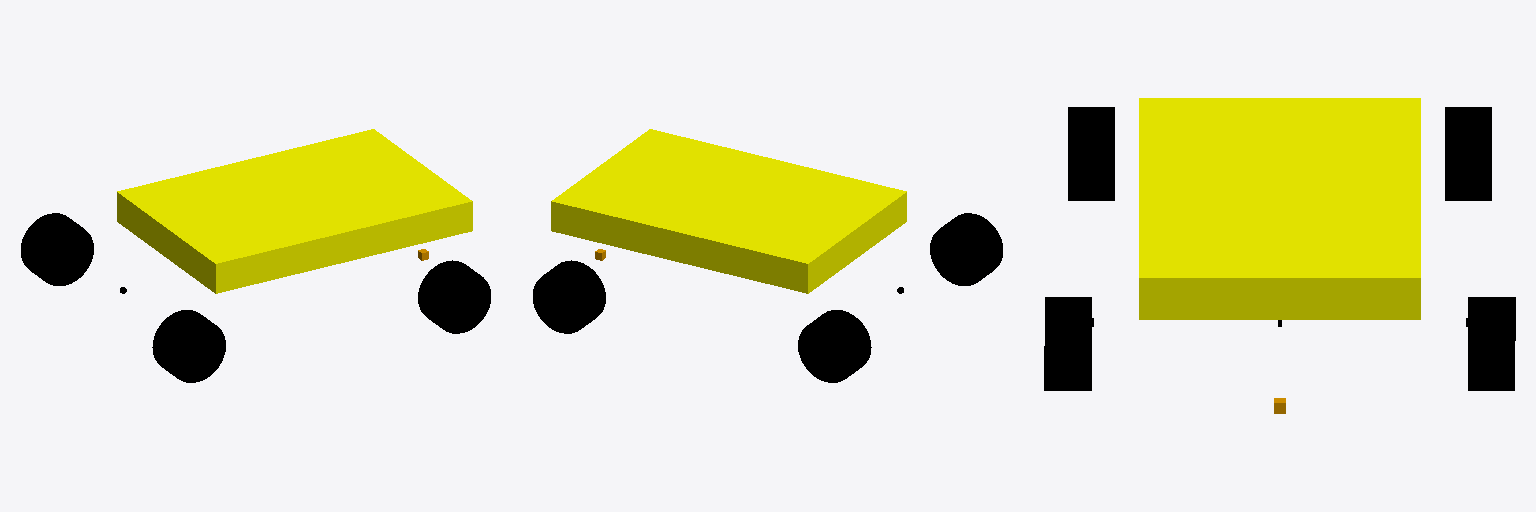
robot.urdf — car_model:
<?xml version="1.0"?>
<robot name="car_model">

  <gazebo>
    <static>False</static>
  </gazebo>

  <material name="grey">
    <color rgba="0.2 0.2 0.2 0.7"/>
  </material>

  <material name="black">
    <color rgba="0 0 0 0.7"/>
  </material>

  <material name="yellow">
    <color rgba="1 1 0 0.7"/>
  </material>



  <link name="base_footprint">

    <inertial>
      <origin xyz="0 0 0"/>
      <mass value="1.0"/>
      <inertia ixx="1" ixy="0.0" ixz="0.0" iyy="1" iyz="0.0" izz="1"/>
    </inertial>

    <visual>
      <geometry>
        <box size="0.001 0.001 0.001"/>
      </geometry>
      <origin xyz="0 0 0" rpy="0 0 0"/>
    </visual>


  </link>

  <joint name="joint1" type="fixed">
    <parent link="base_footprint"/>
    <child link="base_link"/>
    <origin xyz="0 0 0.5" rpy="0 0 0"/>
  </joint>

  <link name="base_link">

    <inertial>
      <origin xyz="1.2 0 0"/>
      <mass value="212"/>
      <inertia ixx="1.4133" ixy="0.0" ixz="0.0" iyy="159.7" iyz="0.0" izz="159.7"/>
    </inertial>

    <visual>
      <geometry>
        <box size="1.8 1.2 0.2"/>
      </geometry>
      <origin rpy="0 0 0" xyz="1.2 0 0"/>
      <material name="yellow"/>
    </visual>

    <collision>
      <geometry>
        <box size="1.8 1.2 0.2"/>
      </geometry>
      <origin rpy="0 0 0" xyz="0 0 0"/>
    </collision>

  </link>

  <gazebo reference="base_link">
    <material>Gazebo/Yellow</material>
  </gazebo>

  <joint name="right_rear_wheel_joint" type="continuous">
    <parent link="base_link"/>
    <child link="right_rear_wheel"/>
    <origin xyz="0 0.8 -0.3" rpy="0 0 0"/>
    <axis xyz="0 1 0"/>
  </joint>


  <link name="right_rear_wheel">

    <inertial>
      <origin xyz="0 0 0"/>
      <mass value="3.0"/>
      <inertia ixx="0.0525" ixy="0.0" ixz="0.0" iyy="0.0525" iyz="0.0" izz="0.06"/>
    </inertial>

    <visual>
      <geometry>
        <cylinder radius="0.2" length="0.2"/>
      </geometry>
      <origin xyz="0 0 0" rpy="1.57 0 0"/>
      <material name="black"/>
    </visual>

    <collision>
      <geometry>
        <cylinder radius="0.2" length="0.2"/>
      </geometry>
      <origin xyz="0 0 0" rpy="1.57 0 0"/>
    </collision>
  </link>


  <joint name="left_rear_wheel_joint" type="continuous">
    <parent link="base_link"/>
    <child link="left_rear_wheel"/>
    <origin xyz="0 -0.8 -0.3" rpy="0 0 0"/>
    <axis xyz="0 1 0"/>
  </joint>


  <link name="left_rear_wheel">

    <inertial>
      <origin xyz="0 0 0"/>
      <mass value="3.0"/>
      <inertia ixx="0.0525" ixy="0.0" ixz="0.0" iyy="0.0525" iyz="0.0" izz="0.06"/>
    </inertial>

    <visual>
      <geometry>
        <cylinder radius="0.2" length="0.2"/>
      </geometry>
      <origin xyz="0 0 0" rpy="1.57 0 0"/>
      <material name="black"/>
    </visual>

    <collision>
      <geometry>
        <cylinder radius="0.2" length="0.2"/>
      </geometry>
      <origin xyz="0 0 0" rpy="1.57 0 0"/>
    </collision>
  </link>




  <transmission name="right_rear_wheel_trans">
    <type>transmission_interface/SimpleTransmission</type>
    <joint name="right_rear_wheel_joint">
      <hardwareInterface>hardware_interface/VelocityJointInterface</hardwareInterface>

    </joint>
    <actuator name="rear_wheel_motor">
      <mechanicalReduction>50</mechanicalReduction>
      <hardwareInterface>hardware_interface/VelocityJointInterface</hardwareInterface>
      <mechanicalReduction>1</mechanicalReduction>
    </actuator>
  </transmission>

  <transmission name="left_rear_wheel_trans">
    <type>transmission_interface/SimpleTransmission</type>
    <joint name="left_rear_wheel_joint">
      <hardwareInterface>hardware_interface/VelocityJointInterface</hardwareInterface>

    </joint>
    <actuator name="rear_wheel_motor">
      <mechanicalReduction>50</mechanicalReduction>
      <hardwareInterface>hardware_interface/VelocityJointInterface</hardwareInterface>
      <mechanicalReduction>1</mechanicalReduction>
    </actuator>
  </transmission>

  <gazebo reference="rear_wheel">
    <mu1 value="0.2"/>
    <mu2 value="0.2"/>
    <kp  value="10000000.0" />
    <kd  value="1.0" />
    <fdir1 value="1 0 0"/>
    <material>Gazebo/Black</material>
  </gazebo>


  <joint name="right_steer_joint" type="revolute">
    <parent link="base_link"/>
    <child link="right_steer"/>
    <origin xyz="1.8 0.8 -0.25" rpy="0 0 0"/>
    <limit effort="10" velocity="3" upper="0.523" lower="-0.47"/>
    <axis xyz="0 0 1"/>
  </joint>

<link name="right_steer">

    <inertial>
      <origin xyz="0 0 0"/>
      <mass value="1.0"/>
      <inertia ixx="0.0525" ixy="0.0" ixz="0.0" iyy="0.0525" iyz="0.0" izz="0.06"/>
    </inertial>

    <visual>
      <geometry>
        <cylinder radius="0.02" length="0.02"/>
      </geometry>
      <origin xyz="0 0 0" rpy="1.57 0 0"/>
      <material name="black"/>
    </visual>

    <collision>
      <geometry>
        <cylinder radius="0.02" length="0.02"/>
      </geometry>
      <origin xyz="0 0 0" rpy="1.57 0 0"/>
    </collision>
  </link>

  <link name="right_front_wheel">

    <inertial>
      <origin xyz="0 0 0"/>
      <mass value="3.0"/>
      <inertia ixx="0.0525" ixy="0.0" ixz="0.0" iyy="0.0525" iyz="0.0" izz="0.06"/>
    </inertial>

    <visual>
      <geometry>
        <cylinder radius="0.2" length="0.2"/>
      </geometry>
      <origin xyz="0 0 0" rpy="1.57 0 0"/>
      <material name="black"/>
    </visual>

    <collision>
      <geometry>
        <cylinder radius="0.2" length="0.2"/>
      </geometry>
      <origin xyz="0 0 0" rpy="1.57 0 0"/>
    </collision>
  </link>

  <joint name="right_front_wheel_joint" type="continuous">
    <parent link="right_steer"/>
    <child link="right_front_wheel"/>
    <origin xyz="0 0.1 -0.1" rpy="0 0 0"/>
    <limit effort="10" velocity="3"/>
    <axis xyz="0 1 0"/>
  </joint>

<joint name="left_steer_joint" type="revolute">
    <parent link="base_link"/>
    <child link="left_steer"/>
    <origin xyz="1.8 -0.8 -0.25" rpy="0 0 0"/>
    <limit effort="10" velocity="3" upper="0.47" lower="-0.523"/>
    <axis xyz="0 0 1"/>
  </joint>

<link name="left_steer">

    <inertial>
      <origin xyz="0 0 0"/>
      <mass value="1.0"/>
      <inertia ixx="0.0525" ixy="0.0" ixz="0.0" iyy="0.0525" iyz="0.0" izz="0.06"/>
    </inertial>

    <visual>
      <geometry>
        <cylinder radius="0.02" length="0.02"/>
      </geometry>
      <origin xyz="0 0 0" rpy="1.57 0 0"/>
      <material name="black"/>
    </visual>

    <collision>
      <geometry>
        <cylinder radius="0.02" length="0.02"/>
      </geometry>
      <origin xyz="0 0 0" rpy="1.57 0 0"/>
    </collision>
  </link>

  <link name="left_front_wheel">

    <inertial>
      <origin xyz="0 0 0"/>
      <mass value="3.0"/>
      <inertia ixx="0.0525" ixy="0.0" ixz="0.0" iyy="0.0525" iyz="0.0" izz="0.06"/>
    </inertial>

    <visual>
      <geometry>
        <cylinder radius="0.2" length="0.2"/>
      </geometry>
      <origin xyz="0 0 0" rpy="1.57 0 0"/>
      <material name="black"/>
    </visual>

    <collision>
      <geometry>
        <cylinder radius="0.2" length="0.2"/>
      </geometry>
      <origin xyz="0 0 0" rpy="1.57 0 0"/>
    </collision>
  </link>

  <joint name="left_front_wheel_joint" type="continuous">
    <parent link="left_steer"/>
    <child link="left_front_wheel"/>
    <origin xyz="0 -0.1 -0.1" rpy="0 0 0"/>
    <limit effort="10" velocity="3"/>
    <axis xyz="0 1 0"/>
  </joint>
   <transmission name="right_front_wheel_trans">
    <type>transmission_interface/SimpleTransmission</type>
    <joint name="right_steer_joint">
      <hardwareInterface>hardware_interface/PositionJointInterface</hardwareInterface>
    </joint>
    <actuator name="front_wheel_motor">
      <mechanicalReduction>50</mechanicalReduction>
      <hardwareInterface>hardware_interface/PositionJointInterface</hardwareInterface>
      <mechanicalReduction>1</mechanicalReduction>
    </actuator>
  </transmission> 

   <transmission name="left_front_wheel_trans">
    <type>transmission_interface/SimpleTransmission</type>
    <joint name="left_steer_joint">
      <hardwareInterface>hardware_interface/PositionJointInterface</hardwareInterface>
    </joint>
    <actuator name="front_wheel_motor">
      <mechanicalReduction>50</mechanicalReduction>
      <hardwareInterface>hardware_interface/PositionJointInterface</hardwareInterface>
      <mechanicalReduction>1</mechanicalReduction>
    </actuator>
  </transmission> 

  <gazebo reference="front_wheel">
    <mu1 value="0.2"/>
    <mu2 value="0.2"/>
    <kp  value="10000000.0" />
    <kd  value="1.0" />
    <fdir1 value="1 0 0"/>
    <material>Gazebo/Black</material>
  </gazebo>

  <gazebo>
    <plugin name="gazebo_ros_control" filename="libgazebo_ros_control.so">
      <robotNamespace>/car_model</robotNamespace>
      <robotSimType>gazebo_ros_control/DefaultRobotHWSim</robotSimType>
    </plugin>
  </gazebo>

<link name="hokuyo_link">

    <inertial>
      <mass value="2" />
      <inertia ixx="1.0" ixy="0.0" ixz="0.0" iyy="1.0" iyz="0.0" izz="1.0" />
    </inertial>

    <visual>
      <origin rpy="0 0 0" xyz="0 0 0"/>
      <geometry>
        <box size="0.05 0.05 0.05"/>
      </geometry>
      <material name="Blue"/>
    </visual>
  </link>
  <joint name="hokuyo_joint" type="fixed">
    <origin rpy="0 0 0" xyz="2.1 0 -0.5"/>
    <parent link="base_link"/>
    <child link="hokuyo_link"/>
  </joint>
  <gazebo reference="hokuyo_link">
    <material>Gazebo/Blue</material>
    <turnGravityOff>false</turnGravityOff>
    <sensor name="head_hokuyo_sensor" type="ray">
      <pose>0.025 0 0 0 0 0</pose>
      <visualize>true</visualize>
      <update_rate>40</update_rate>
      <ray>
        <scan>
          <horizontal>
            <samples>400</samples>
            <resolution>1</resolution>
            <min_angle>-1.570796</min_angle>
            <max_angle>1.570796</max_angle>
          </horizontal>
        </scan>
        <range>
          <min>0.10</min>
          <max>5.0</max>
          <resolution>0.001</resolution>
        </range>
      </ray>
      <plugin filename="libgazebo_ros_laser.so" name="gazebo_ros_head_hokuyo_controller">
        <topicName>/scan</topicName>
        <frameName>hokuyo_link</frameName>
      </plugin>
    </sensor>
  </gazebo>


 <joint name="steer_joint" type="revolute">
    <parent link="base_link"/>
    <child link="steer_link"/>
    <origin xyz="1.8 0 -0.25" rpy="0 0 0"/>
    <limit effort="10" velocity="3" upper="1" lower="-1"/>
    <axis xyz="0 0 1"/>
  </joint>

 <link name="steer_link">

    <inertial>
      <origin xyz="0 0 0"/>
      <mass value="1.0"/>
      <inertia ixx="0.0525" ixy="0.0" ixz="0.0" iyy="0.0525" iyz="0.0" izz="0.06"/>
    </inertial>

    <visual>
      <geometry>
        <cylinder radius="0.02" length="0.02"/>
      </geometry>
      <origin xyz="0 0 0" rpy="1.57 0 0"/>
      <material name="black"/>
    </visual>

    <collision>
      <geometry>
        <cylinder radius="0.02" length="0.02"/>
      </geometry>
      <origin xyz="0 0 0" rpy="1.57 0 0"/>
    </collision>
  </link>

<joint name="rear_wheel_joint" type="continuous">
    <parent link="base_link"/>
    <child link="rear_wheel"/>
    <origin xyz="0 0 -0.25" rpy="0 0 0"/>
    <limit effort="10" velocity="3" upper="1" lower="-1"/>
    <axis xyz="0 1 0"/>
  </joint>

<transmission name="steer_transmission">
    <type>transmission_interface/SimpleTransmission</type>
    <joint name="steer_joint">
      <hardwareInterface>hardware_interface/PositionJointInterface</hardwareInterface>
    </joint>
    <actuator name="front_steer_motor">
      <mechanicalReduction>50</mechanicalReduction>
      <hardwareInterface>hardware_interface/PositionJointInterface</hardwareInterface>
      <mechanicalReduction>1</mechanicalReduction>
    </actuator>
  </transmission>

 <link name="rear_wheel">

    <inertial>
      <origin xyz="0 0 0"/>
      <mass value="1.0"/>
      <inertia ixx="0.0525" ixy="0.0" ixz="0.0" iyy="0.0525" iyz="0.0" izz="0.06"/>
    </inertial>

    <visual>
      <geometry>
        <cylinder radius="0.02" length="0.02"/>
      </geometry>
      <origin xyz="0 0 0" rpy="1.57 0 0"/>
      <material name="black"/>
    </visual>

    <collision>
      <geometry>
        <cylinder radius="0.02" length="0.02"/>
      </geometry>
      <origin xyz="0 0 0" rpy="1.57 0 0"/>
    </collision>
  </link>

  <transmission name="left_front_wheel_trans">
    <type>transmission_interface/SimpleTransmission</type>
    <joint name="rear_wheel_joint">
      <hardwareInterface>hardware_interface/VelocityJointInterface</hardwareInterface>
    </joint>
    <actuator name="real_wheel_motor">
      <mechanicalReduction>50</mechanicalReduction>
      <hardwareInterface>hardware_interface/VelocityJointInterface</hardwareInterface>
      <mechanicalReduction>1</mechanicalReduction>
    </actuator>
  </transmission>
  <!--link name="laser">
	<visual>
      	  <geometry>
        <box size="0.15 0.15 0.15"/>
      </geometry>
      <origin xyz="0 0 0" rpy="1.57 0 0"/>
      <material name="black"/>
      </visual>
        <sensor type="gpu_ray" name="head_hokuyo_sensor">
          <pose>1 0 0.025 0 0 0</pose>
          <visualize>true</visualize>
          <update_rate>40</update_rate>
          <ray>
            <scan>
              <horizontal>
                <samples>400</samples>
                <resolution>1</resolution>
                <min_angle>-1.570796</min_angle>
                <max_angle>1.570796</max_angle>
              </horizontal>
            </scan>
            <range>
              <min>0.1</min>
              <max>6</max>
              <resolution>0.01</resolution>
            </range>
          </ray>
          <plugin name="gazebo_ros_head_hokuyo_controller" filename="libgazebo_ros_laser.so">
            <topicName>/scan</topicName>
           </plugin>
        </sensor>
      </link>

	<joint name="laser_joint" type="fixed">
	    <parent link="base_link"/>
	    <child link="laser"/>
	    <origin xyz="1.2 0 0.25" rpy="0 0 0"/>
	  </joint-->
  <!--gazebo>
    <plugin name="ackermann_steering_controller" filename="libackermann_steering_controller.so">
      <rosDebugLevel>Debug</rosDebugLevel>
      <publishWheelTF>false</publishWheelTF>
      <publishTf>1</publishTf>
      <publishWheelJointState>false</publishWheelJointState>
      <alwaysOn>true</alwaysOn>
      <updateRate>100.0</updateRate>
      <fronSteer>front_steer_joint</frontSteer>
      <rearWheel>rear_wheel_joint</rearWheel>
      <broadcastTF>1</broadcastTF>
      <base_linkmandTopic>cmd_vel</base_linkmandTopic>
      <odometryFrame>odom</odometryFrame>
      <odometryTopic>odom</odometryTopic>
      <robotBaseFrame>base_link</robotBaseFrame>


    </plugin>
  </gazebo-->




</robot>

--- Render facts (derived) ---
The picture shows the robot from 3 angles, left to right: view 1: azimuth 30°, elevation 25°; view 2: azimuth 150°, elevation 25°; view 3: azimuth 270°, elevation 25°; orthographic projection.
Model car_model with 11 links and 10 joints (3 revolute, 5 continuous, 2 fixed), rooted at base_footprint, posed all joints at 0.
Visible links, largest first — view 1: base_link, left_rear_wheel, left_front_wheel, right_rear_wheel; view 2: base_link, right_rear_wheel, right_front_wheel, left_rear_wheel; view 3: base_link, left_front_wheel, right_front_wheel, right_rear_wheel, left_rear_wheel.
Boxes of the visible links, x1,y1,x2,y2 form: base_link: (117, 129, 472, 293); left_rear_wheel: (152, 310, 225, 382); left_front_wheel: (418, 260, 490, 333); right_rear_wheel: (21, 213, 93, 285); base_link: (551, 129, 906, 293); right_rear_wheel: (798, 310, 871, 382); right_front_wheel: (533, 260, 605, 333); left_rear_wheel: (930, 213, 1002, 285); base_link: (1139, 98, 1420, 319); left_front_wheel: (1044, 297, 1091, 390); right_front_wheel: (1468, 297, 1515, 390); right_rear_wheel: (1445, 107, 1491, 200); left_rear_wheel: (1068, 107, 1114, 200).
Size in the robot's own frame: 2.33 by 2 by 0.6501 metres.
Geometry: primitives only (box / cylinder / sphere), no mesh files.
